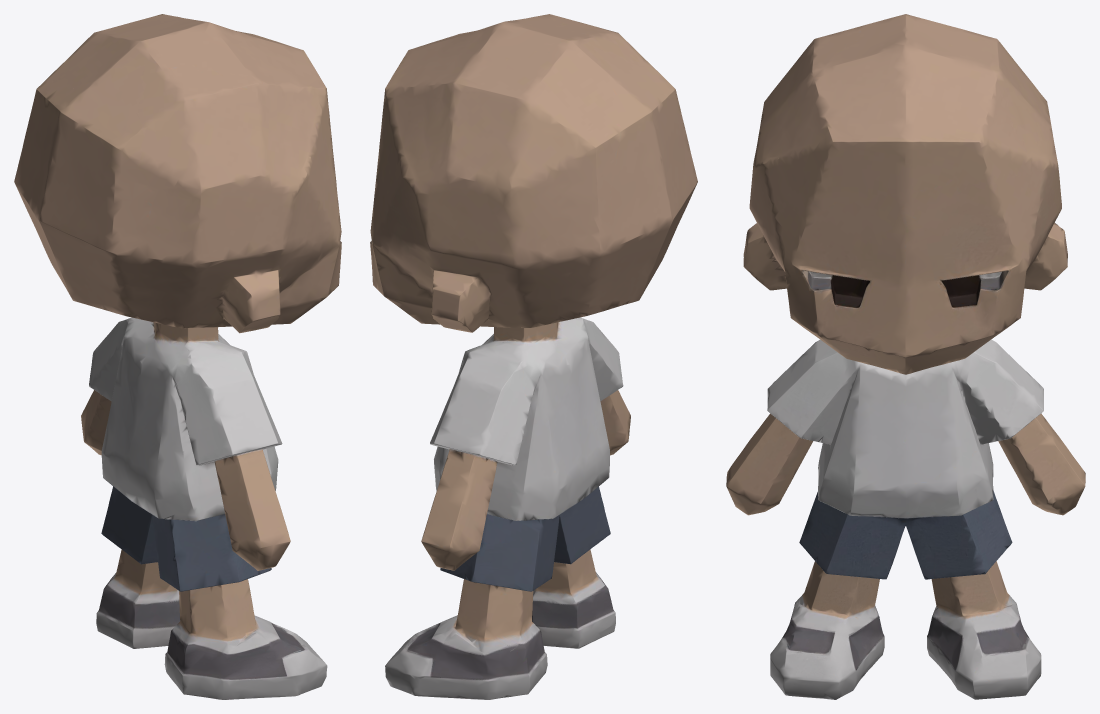
The model's file is base_tripo-single-20k.glb.
3 views of the same model, side by side, from view 1: azimuth 30°, elevation 25°; view 2: azimuth 150°, elevation 25°; view 3: azimuth 270°, elevation 25° (orthographic).
Parts seen in each view (by area): view 1: tripo_node_5473caff-10da-4e1e-8d2d-2bdd49d65c53; view 2: tripo_node_5473caff-10da-4e1e-8d2d-2bdd49d65c53; view 3: tripo_node_5473caff-10da-4e1e-8d2d-2bdd49d65c53.
Boxes of the visible parts, x1,y1,x2,y2 form: tripo_node_5473caff-10da-4e1e-8d2d-2bdd49d65c53: (14,14,341,699); tripo_node_5473caff-10da-4e1e-8d2d-2bdd49d65c53: (370,14,697,699); tripo_node_5473caff-10da-4e1e-8d2d-2bdd49d65c53: (726,14,1085,699).
Bounding box in the file's own units: 0.4506 × 1 × 0.5195.
Materials: 1 (1 with a texture image).
